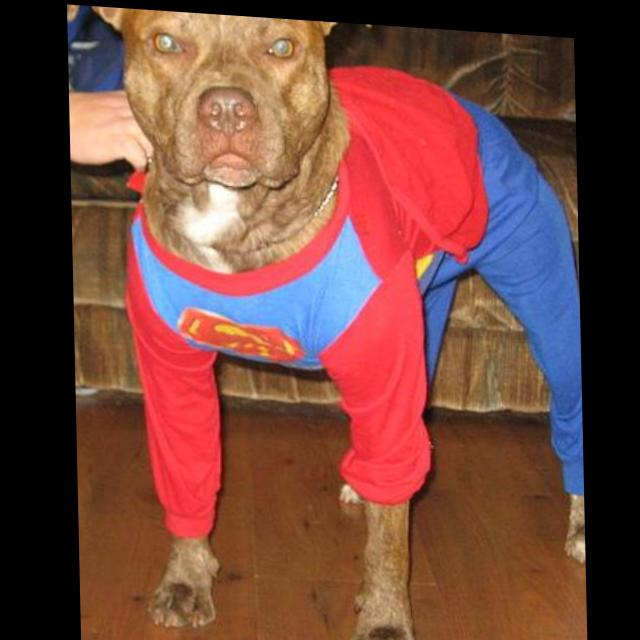amstaff: (68, 4, 586, 640)
